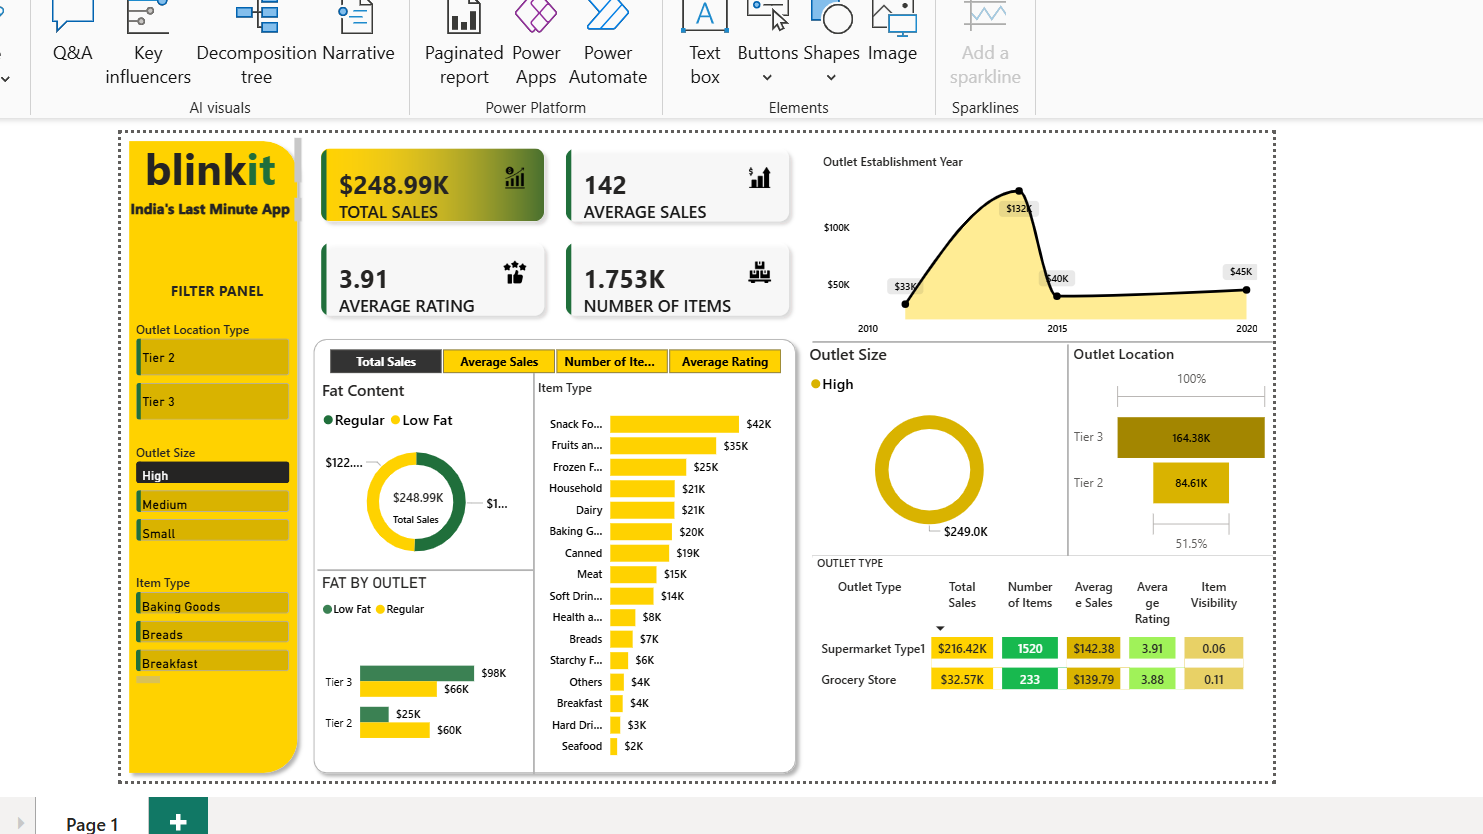

What the dashboard file says about the page in this screenshot:
{"tool":"powerbi","page":{"name":"Page 1","canvas":[1280,720],"ordinal":0},"visuals":[{"type":"shape","box":[0,0,205,720],"z":0},{"type":"textbox","box":[0,0,205.6,66.4],"z":1000},{"type":"textbox","box":[0,66.4,205.6,42.1],"z":2000},{"type":"cardVisual","fields":{"Data":["BlinkIT Grocery Data.Total Sales","BlinkIT Grocery Data.Average Sales","BlinkIT Grocery Data.Average Rating","BlinkIT Grocery Data.Number of Items"]},"box":[205.6,0,554,220],"z":3000},{"type":"shape","box":[205.6,220.2,553.8,500.3],"z":4000},{"type":"donutChart","title":"Fat Content","fields":{"Y":["BlinkIT Grocery Data.Number of Items"],"Category":["BlinkIT Grocery Data.Item Fat Content"]},"box":[218.6,273.6,218.6,217],"z":5000},{"type":"slicer","fields":{"Values":["Metrics .Metrics "]},"box":[207.3,233.2,550.5,40.5],"z":6000},{"type":"cardVisual","fields":{"Data":["BlinkIT Grocery Data.Number of Items"]},"box":[285,359.5,111.7,111.7],"z":7000},{"type":"clusteredBarChart","title":"FAT BY OUTLET","fields":{"Y":["BlinkIT Grocery Data.Number of Items"],"Category":["BlinkIT Grocery Data.Outlet Location Type"],"Series":["BlinkIT Grocery Data.Item Fat Content"]},"box":[218.6,490.6,218.6,229.9],"z":8000},{"type":"shape","box":[218.6,375.7,240,221.4],"z":9000},{"type":"shape","box":[421.4,267.1,74.3,445.7],"z":10000},{"type":"barChart","title":"Item Type","fields":{"Y":["BlinkIT Grocery Data.Number of Items"],"Category":["BlinkIT Grocery Data.Item Type"]},"box":[458.2,273.6,286.6,432.3],"z":11000},{"type":"lineChart","title":"Outlet Establishment Year","fields":{"Category":["BlinkIT Grocery Data.Outlet Establishment Year"],"Y":["BlinkIT Grocery Data.Total Sales"]},"box":[775.6,21,492.2,212.1],"z":12000},{"type":"donutChart","title":"Outlet Size","fields":{"Y":["BlinkIT Grocery Data.Total Sales"],"Category":["BlinkIT Grocery Data.Outlet Size"]},"box":[760,232.9,275.7,225.7],"z":13000},{"type":"funnel","title":"Outlet Location","fields":{"Y":["Sum(BlinkIT Grocery Data.Sales)"],"Category":["BlinkIT Grocery Data.Outlet Location Type"]},"box":[1052.9,232.9,227.1,238.6],"z":14000},{"type":"shape","box":[1015.7,234.3,74.3,237.1],"z":15000},{"type":"shape","box":[768.6,452.9,511.4,34.3],"z":16000},{"type":"shape","box":[768.6,215.7,511.4,34.3],"z":17000},{"type":"pivotTable","title":"OUTLET TYPE","fields":{"Rows":["BlinkIT Grocery Data.Outlet Type"],"Values":["BlinkIT Grocery Data.Total Sales","BlinkIT Grocery Data.Number of Items","BlinkIT Grocery Data.Average Sales","BlinkIT Grocery Data.Average Rating","Avg(BlinkIT Grocery Data.Item Visibility)"]},"box":[768.6,470,511.4,250],"z":18000},{"type":"advancedSlicerVisual","fields":{"Values":["BlinkIT Grocery Data.Outlet Location Type"]},"box":[11.7,208.3,180,116.7],"z":19000},{"type":"advancedSlicerVisual","fields":{"Values":["BlinkIT Grocery Data.Outlet Size"]},"box":[11.7,345,180,113.3],"z":20000},{"type":"advancedSlicerVisual","fields":{"Values":["BlinkIT Grocery Data.Item Type"]},"box":[11.7,490,180,128.3],"z":21000},{"type":"textbox","box":[11.7,158.3,178.3,31.7],"z":22000}]}

Visuals, with their boxes on the page's 1280x720 design canvas (x1, y1, x2, y2). These are canvas units, not pixel positions in the 1483x834 screenshot, which may show the page scaled, cropped or inside an application window:
shape: select_region(0, 0, 205, 720)
textbox: select_region(0, 0, 206, 66)
textbox: select_region(0, 66, 206, 108)
cardVisual - BlinkIT Grocery Data.Total Sales x BlinkIT Grocery Data.Average Sales: select_region(206, 0, 760, 220)
shape: select_region(206, 220, 759, 720)
"Fat Content" donutChart: select_region(219, 274, 437, 491)
slicer - Metrics .Metrics : select_region(207, 233, 758, 274)
cardVisual - BlinkIT Grocery Data.Number of Items: select_region(285, 360, 397, 471)
"FAT BY OUTLET" clusteredBarChart: select_region(219, 491, 437, 720)
shape: select_region(219, 376, 459, 597)
shape: select_region(421, 267, 496, 713)
"Item Type" barChart: select_region(458, 274, 745, 706)
"Outlet Establishment Year" lineChart: select_region(776, 21, 1268, 233)
"Outlet Size" donutChart: select_region(760, 233, 1036, 459)
"Outlet Location" funnel: select_region(1053, 233, 1280, 472)
shape: select_region(1016, 234, 1090, 471)
shape: select_region(769, 453, 1280, 487)
shape: select_region(769, 216, 1280, 250)
"OUTLET TYPE" pivotTable: select_region(769, 470, 1280, 720)
advancedSlicerVisual - BlinkIT Grocery Data.Outlet Location Type: select_region(12, 208, 192, 325)
advancedSlicerVisual - BlinkIT Grocery Data.Outlet Size: select_region(12, 345, 192, 458)
advancedSlicerVisual - BlinkIT Grocery Data.Item Type: select_region(12, 490, 192, 618)
textbox: select_region(12, 158, 190, 190)
